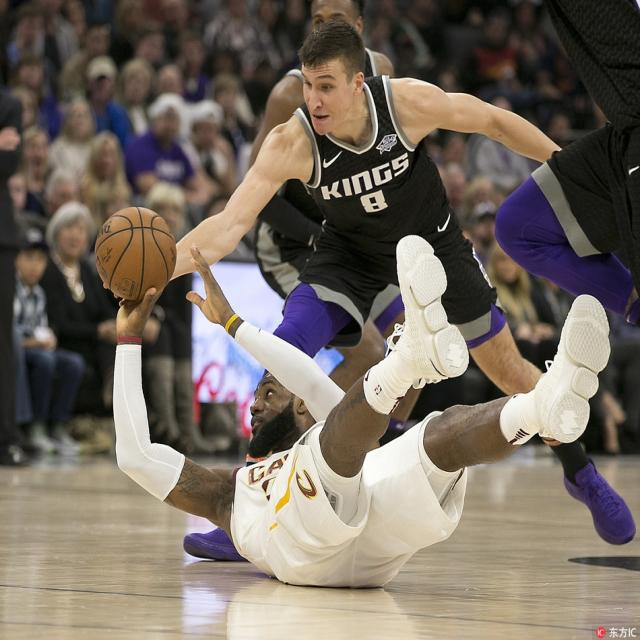10-: (0, 0, 637, 588)
down: (98, 253, 612, 588)
